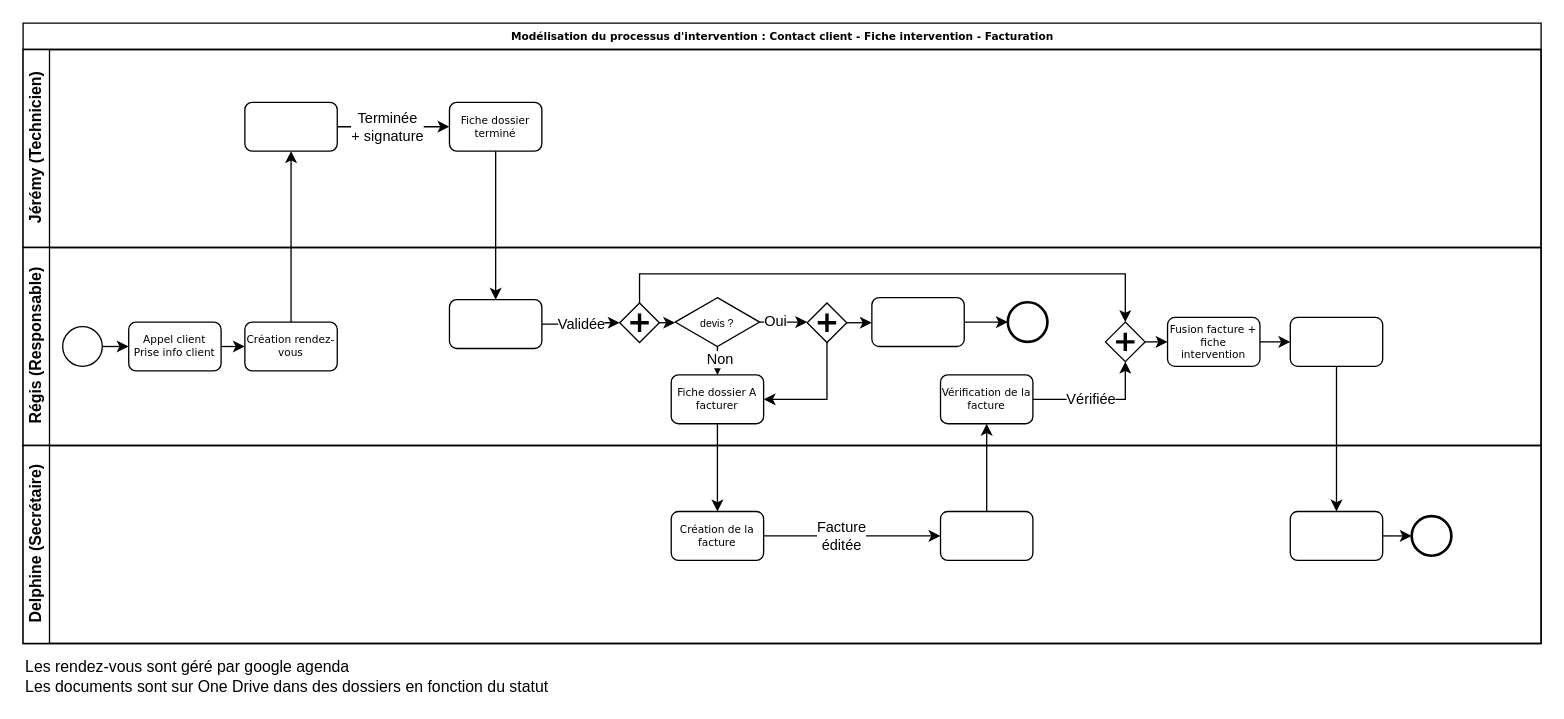
The diagram is 1564 pixels wide and 719 high, and some of its shapes have lost their labels. Each missing label, with the centre of its shape:
Chez client Création fiche intervention: point (290, 126)
Envoi de la facture au client: point (1336, 535)
Facture dossier à envoyer: point (1336, 341)
Facture dossier à vérifier: point (986, 535)
Réalisation devis: point (917, 321)
Validation fiche d'intervention: point (495, 323)
